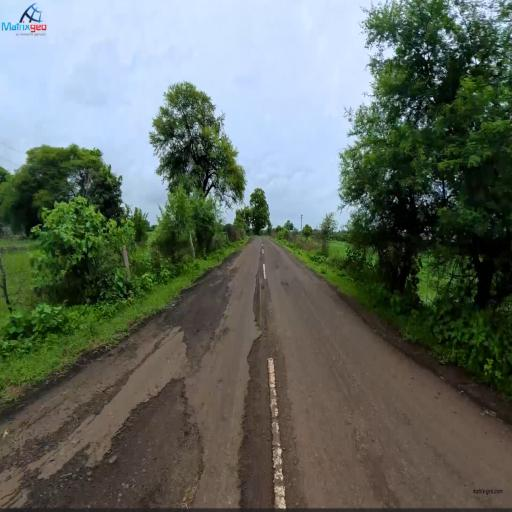ravelling: (141, 365, 314, 491)
